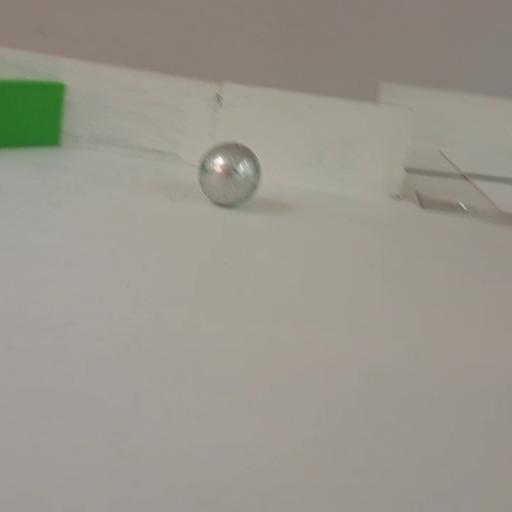alive: (194, 138, 266, 210)
